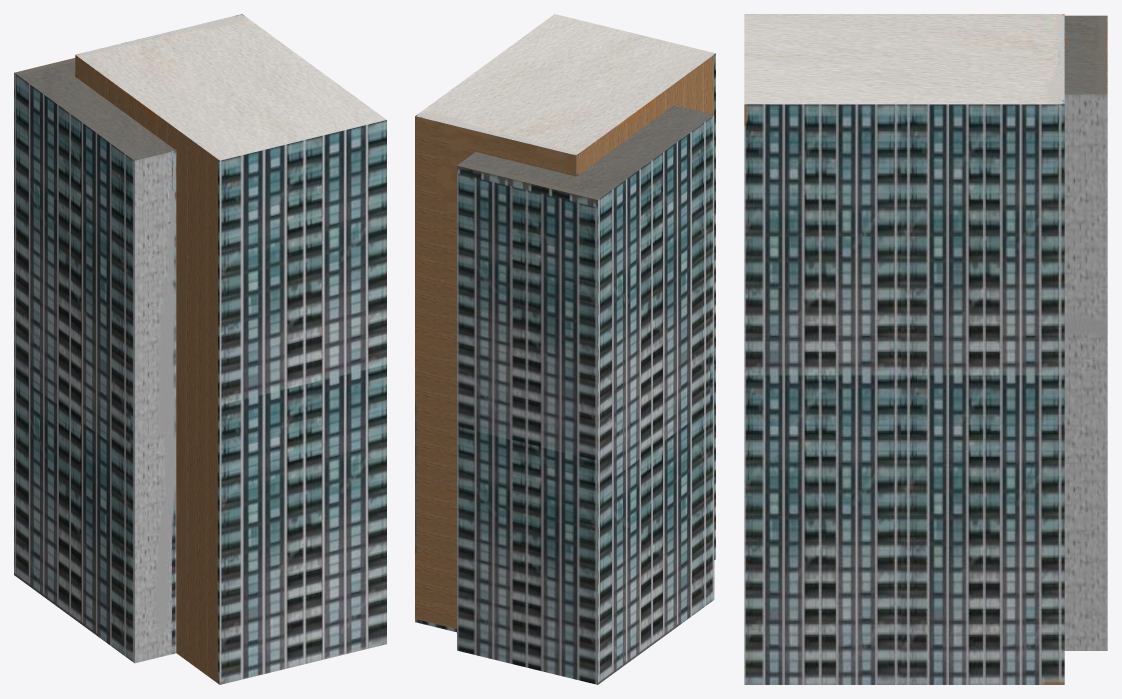
File: apartment1.dae
3 views of the same model, side by side, from view 1: azimuth 30°, elevation 25°; view 2: azimuth 150°, elevation 25°; view 3: azimuth 270°, elevation 25° (orthographic). The views are drawn at different scales.
Visible parts, largest first — view 1: Building; view 2: Building; view 3: Building.
Part boxes in pixels (x1=…): Building: x1=14, y1=14, x2=386, y2=684; Building: x1=415, y1=14, x2=715, y2=684; Building: x1=744, y1=14, x2=1107, y2=684.
Bounding box in the file's own units: 50 × 68 × 120.
1 material, 1 textured.
